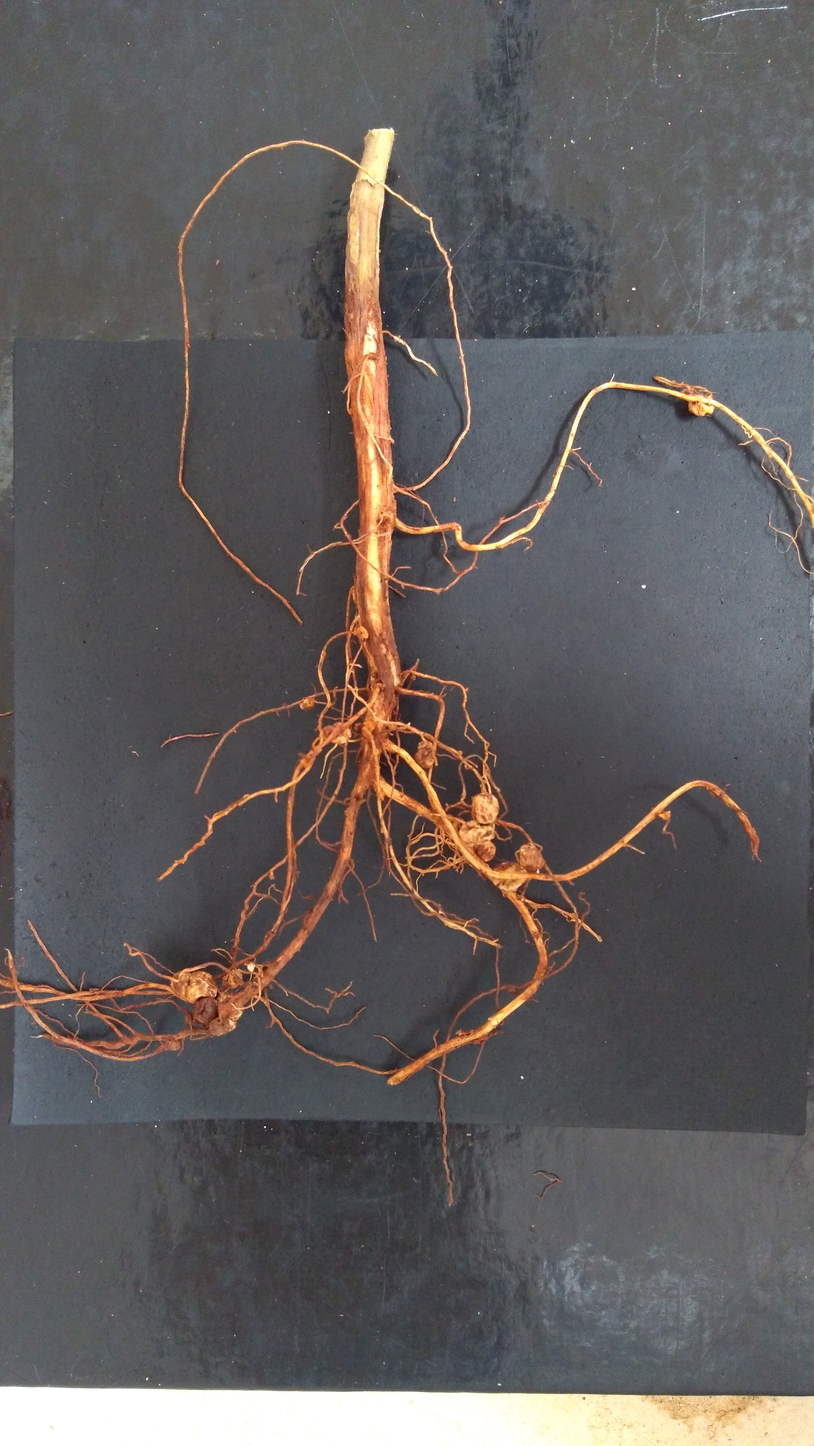nodule: (167, 968, 222, 1005), (489, 860, 529, 894), (469, 791, 501, 826), (188, 995, 220, 1027), (514, 841, 547, 872), (458, 819, 495, 845), (320, 720, 354, 747), (215, 991, 245, 1021), (414, 738, 439, 769), (206, 1017, 239, 1037), (219, 969, 245, 991), (687, 400, 716, 418), (475, 840, 496, 863), (352, 625, 370, 641), (300, 695, 315, 713), (164, 1039, 182, 1052), (658, 809, 672, 821), (245, 959, 256, 973), (184, 1012, 194, 1025)
